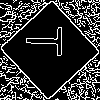T: (25, 25, 72, 57)
